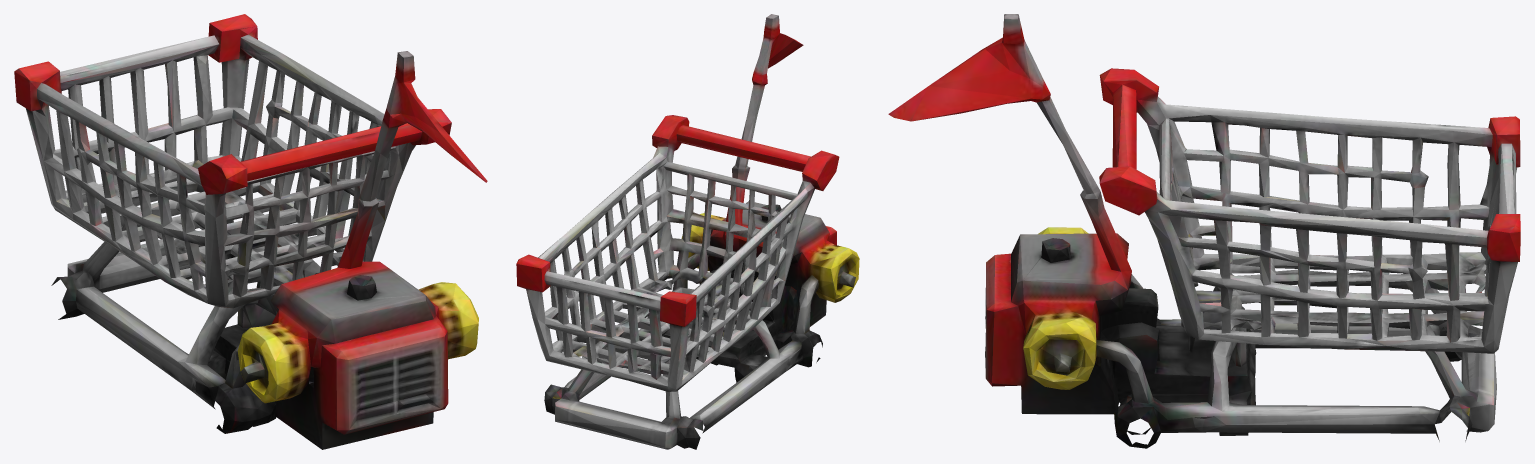
The model's file is cs_v_carrello_spesa.glb.
The picture shows the model from 3 angles, left to right: view 1: azimuth 30°, elevation 25°; view 2: azimuth 150°, elevation 25°; view 3: azimuth 270°, elevation 25°; orthographic projection. The views are drawn at different scales.
Visible parts, largest first — view 1: v_carrello_spesa; view 2: v_carrello_spesa; view 3: v_carrello_spesa.
Boxes of the visible parts, x1,y1,x2,y2 form: v_carrello_spesa: (14,14,487,449); v_carrello_spesa: (516,14,859,449); v_carrello_spesa: (888,14,1520,448).
Bounding box in the file's own units: 0.9354 × 1.53 × 2.2.
Materials: 1 (1 with a texture image).
